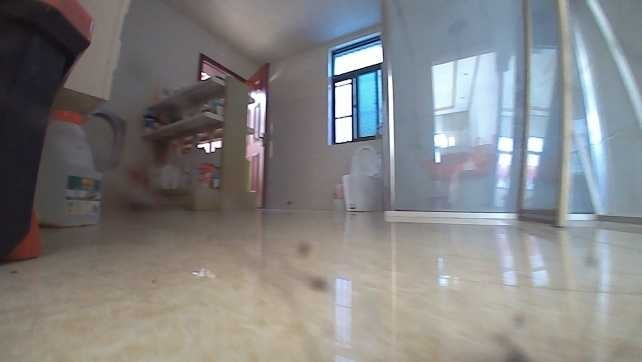door_anno: (240, 61, 270, 208)
toilet: (339, 145, 384, 212)
